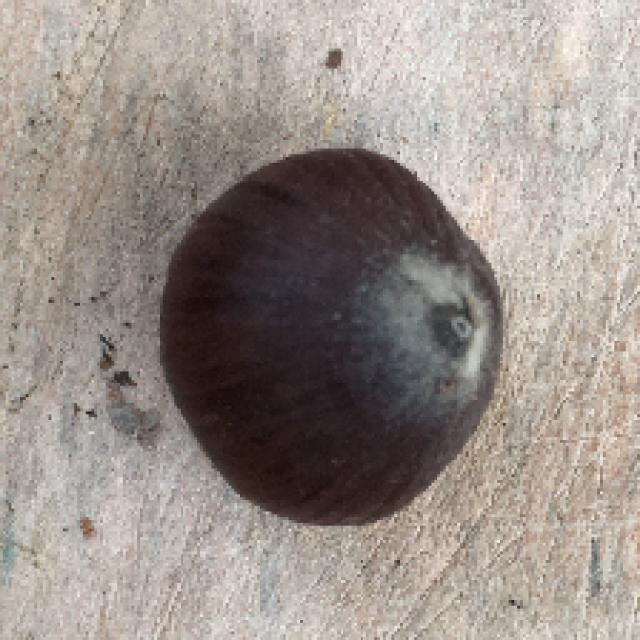damagedHazelnut: (154, 141, 510, 543)
